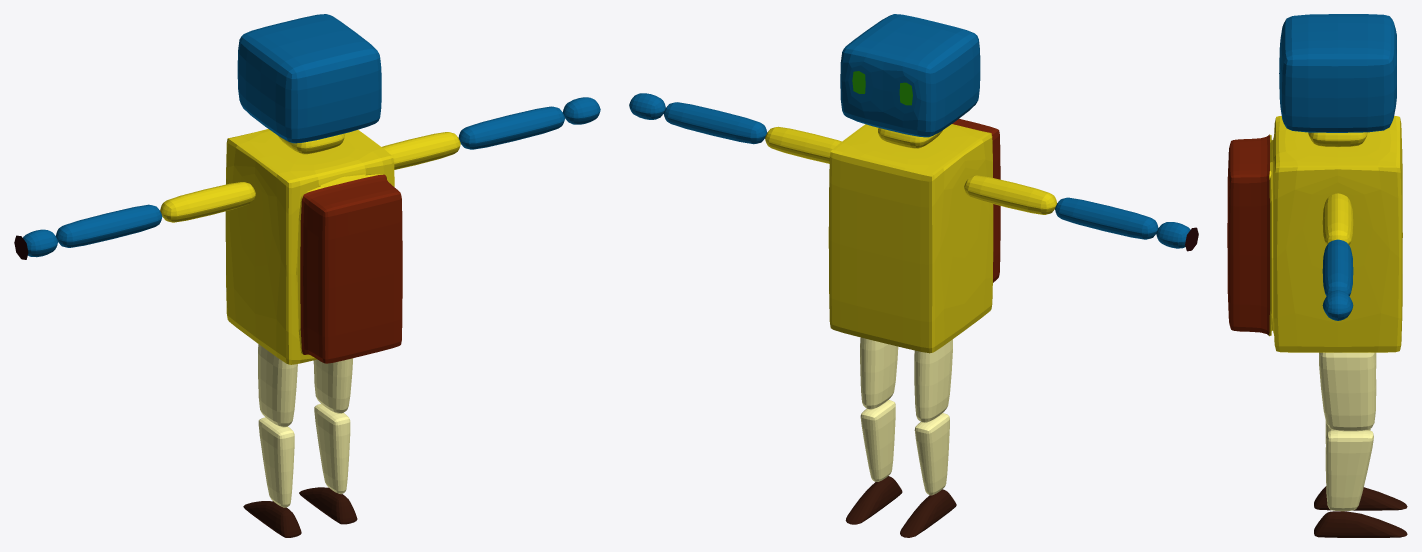
Rendered from PlayerModel.fbx.
The picture shows the model from 3 angles, left to right: view 1: azimuth 30°, elevation 25°; view 2: azimuth 150°, elevation 25°; view 3: azimuth 270°, elevation 25°; orthographic projection. The views are drawn at different scales.
Visible parts, largest first — view 1: Cube.009, Cube.011, Cube.004, Cube.007, Cube.013, Cube.014, Cube.015, Cube.006, Cube.005, Cube.012, Cube.016, Cube.017 (+3 smaller); view 2: Cube.009, Cube.011, Cube.013, Cube.007, Cube.004, Cube.012, Cube.006, Cube.015, Cube.014, Cube.005, Cube.016, Cube.017 (+3 smaller); view 3: Cube.009, Cube.011, Cube.012, Cube.014, Cube.016, Cube.004, Cube.005, Cube.017, Cube.010, Cube.003.
Boxes of the visible parts, x1,y1,x2,y2 form: Cube.009: (225, 129, 402, 364); Cube.011: (237, 14, 381, 143); Cube.004: (458, 106, 564, 149); Cube.007: (56, 204, 162, 247); Cube.013: (258, 344, 297, 427); Cube.014: (314, 404, 350, 494); Cube.015: (258, 417, 294, 507); Cube.006: (160, 182, 255, 222); Cube.005: (382, 132, 460, 169); Cube.012: (313, 358, 353, 413); Cube.016: (299, 487, 357, 524); Cube.017: (243, 501, 301, 537); Cube.009: (828, 118, 1000, 353); Cube.011: (840, 14, 980, 137); Cube.013: (914, 339, 952, 422); Cube.007: (1055, 197, 1158, 239); Cube.004: (663, 102, 766, 144); Cube.012: (860, 337, 898, 409); Cube.006: (964, 175, 1056, 214); Cube.015: (914, 413, 949, 495); Cube.014: (860, 400, 895, 481); Cube.005: (765, 126, 841, 163); Cube.016: (845, 476, 902, 524); Cube.017: (900, 489, 956, 537); Cube.009: (1227, 116, 1402, 352); Cube.011: (1279, 14, 1396, 132); Cube.012: (1319, 352, 1376, 431); Cube.014: (1325, 430, 1373, 511); Cube.016: (1314, 511, 1407, 537); Cube.004: (1322, 239, 1353, 295); Cube.005: (1322, 193, 1353, 245); Cube.017: (1314, 486, 1407, 510); Cube.010: (1308, 132, 1367, 146); Cube.003: (1322, 290, 1353, 320).
Size of the model in its own units: 375 by 302 by 100.
